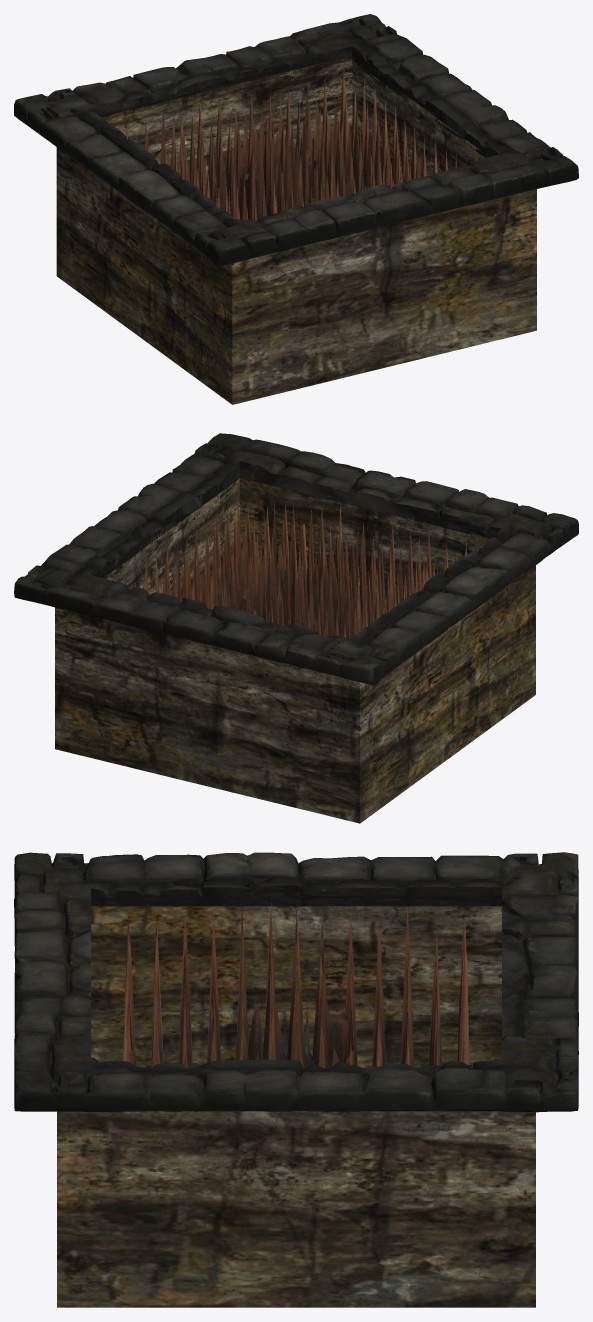
File: obj_pit.glb
3 renders of one model, top to bottom at view 1: azimuth 30°, elevation 25°; view 2: azimuth 150°, elevation 25°; view 3: azimuth 270°, elevation 25°, orthographic. The views are drawn at different scales.
Visible parts, largest first — view 1: Cube, Mesh_0.001, Mesh1.0; view 2: Cube, Mesh_0.001, Mesh1.0; view 3: Cube, Mesh_0.001, Mesh1.0.
Boxes of the visible parts, x1,y1,x2,y2 form: Cube: (56,56,536,404); Mesh_0.001: (14,14,578,265); Mesh1.0: (126,62,456,220); Cube: (55,474,535,823); Mesh_0.001: (14,433,578,684); Mesh1.0: (124,499,466,638); Cube: (57,906,535,1307); Mesh_0.001: (14,852,578,1112); Mesh1.0: (123,901,469,1068).
Bounding box in the file's own units: 2 × 0.9803 × 1.98.
3 materials, 3 textured.
